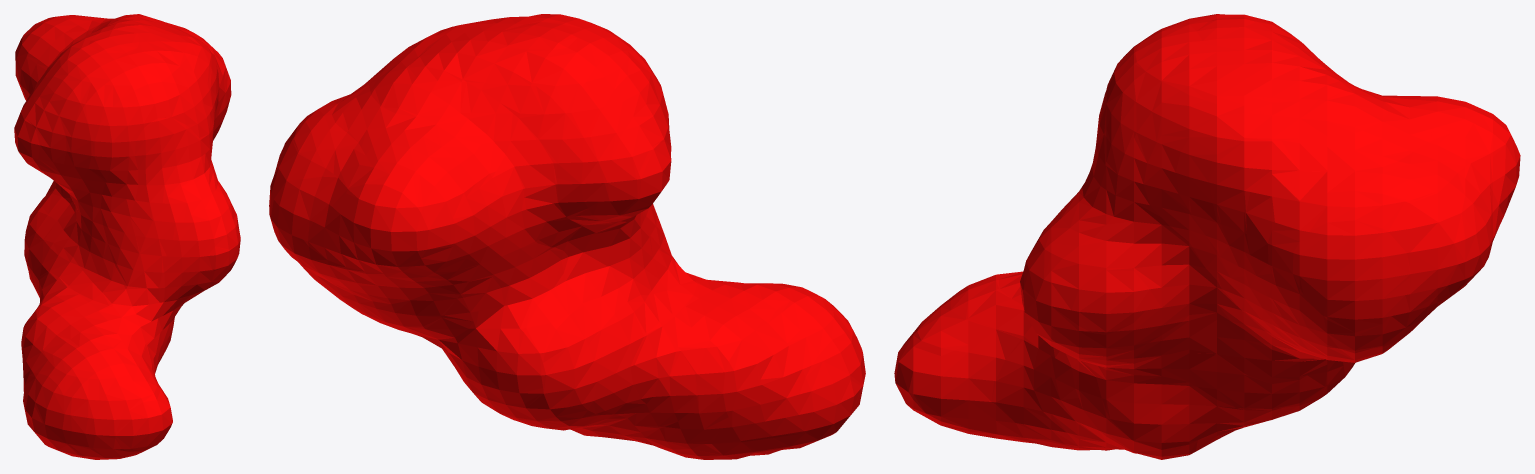
File: fusA_coarse.dae
3 renders of one model, left to right at view 1: azimuth 30°, elevation 25°; view 2: azimuth 150°, elevation 25°; view 3: azimuth 270°, elevation 25°, orthographic. The views are drawn at different scales.
Visible parts, largest first — view 1: fusA; view 2: fusA; view 3: fusA.
Boxes of the visible parts, bbox=[...] form: fusA: bbox=[14, 14, 240, 459]; fusA: bbox=[269, 14, 865, 459]; fusA: bbox=[894, 14, 1520, 459].
Bounding box in the file's own units: 85.5 × 89.42 × 108.
